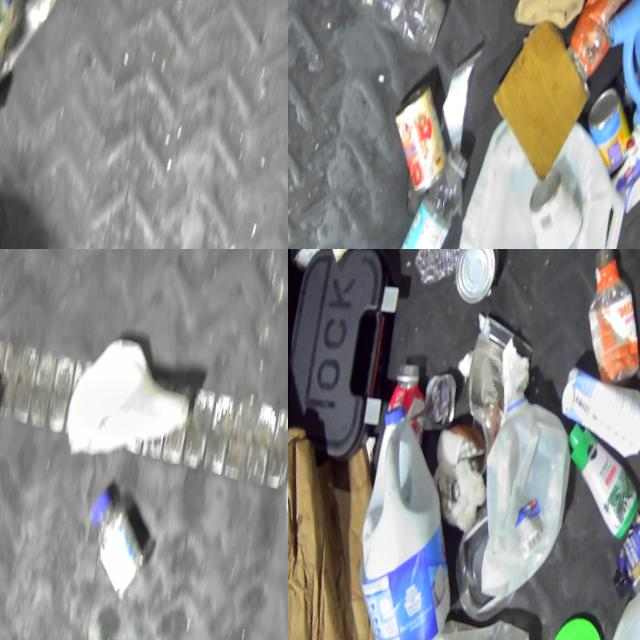can: (380, 74, 461, 200), (518, 163, 587, 249), (583, 90, 631, 171), (264, 434, 288, 584), (443, 249, 501, 311), (620, 327, 640, 465)
milk_jug: (333, 424, 463, 640), (437, 115, 633, 249), (56, 316, 208, 478), (470, 410, 584, 612)
non_white_jug: (591, 0, 640, 175)
plastic_bottle: (375, 133, 473, 249), (405, 249, 505, 298)
